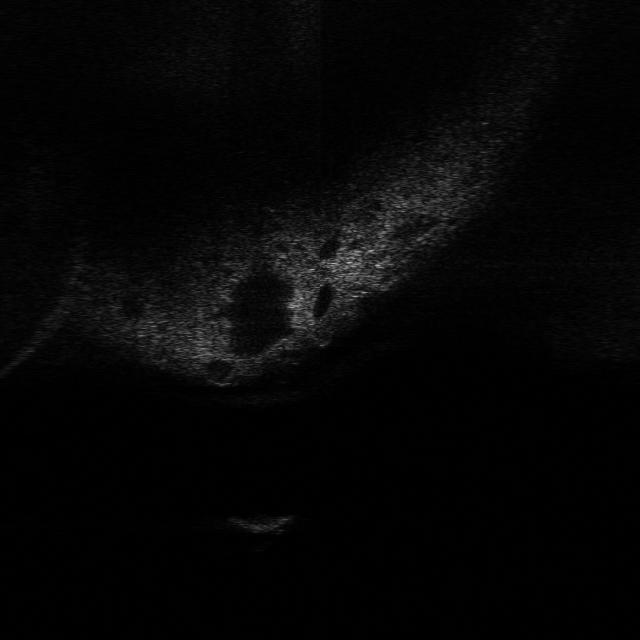ball: (307, 322, 339, 348)
cube: (221, 512, 297, 536)
